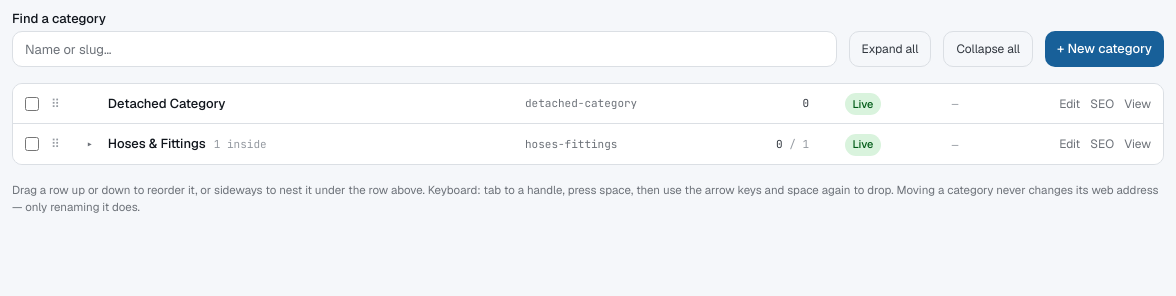
Test: admin category tree › selecting a row opens the bulk bar
The width and height of the screenshot is (1176, 296).
Click the checkbox named "Select Hoses & Fittings": (32,144) [25,137,39,151]
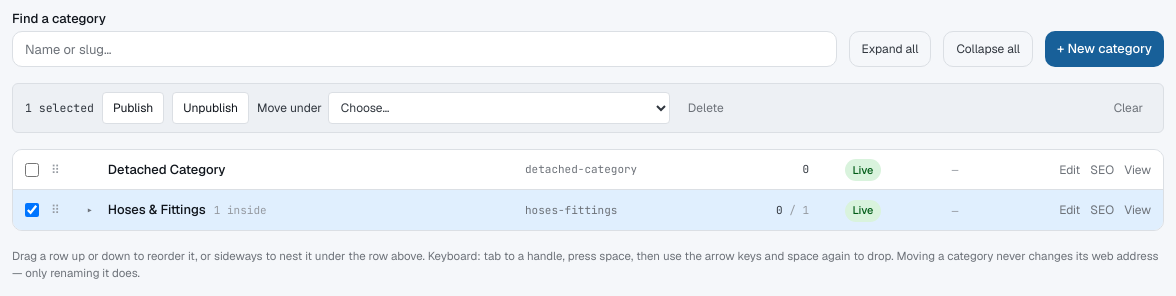
Now the text "1 selected" is shown, box [25,99,94,117]
Now the text "Unpublish" is shown, box [172,92,249,124]
